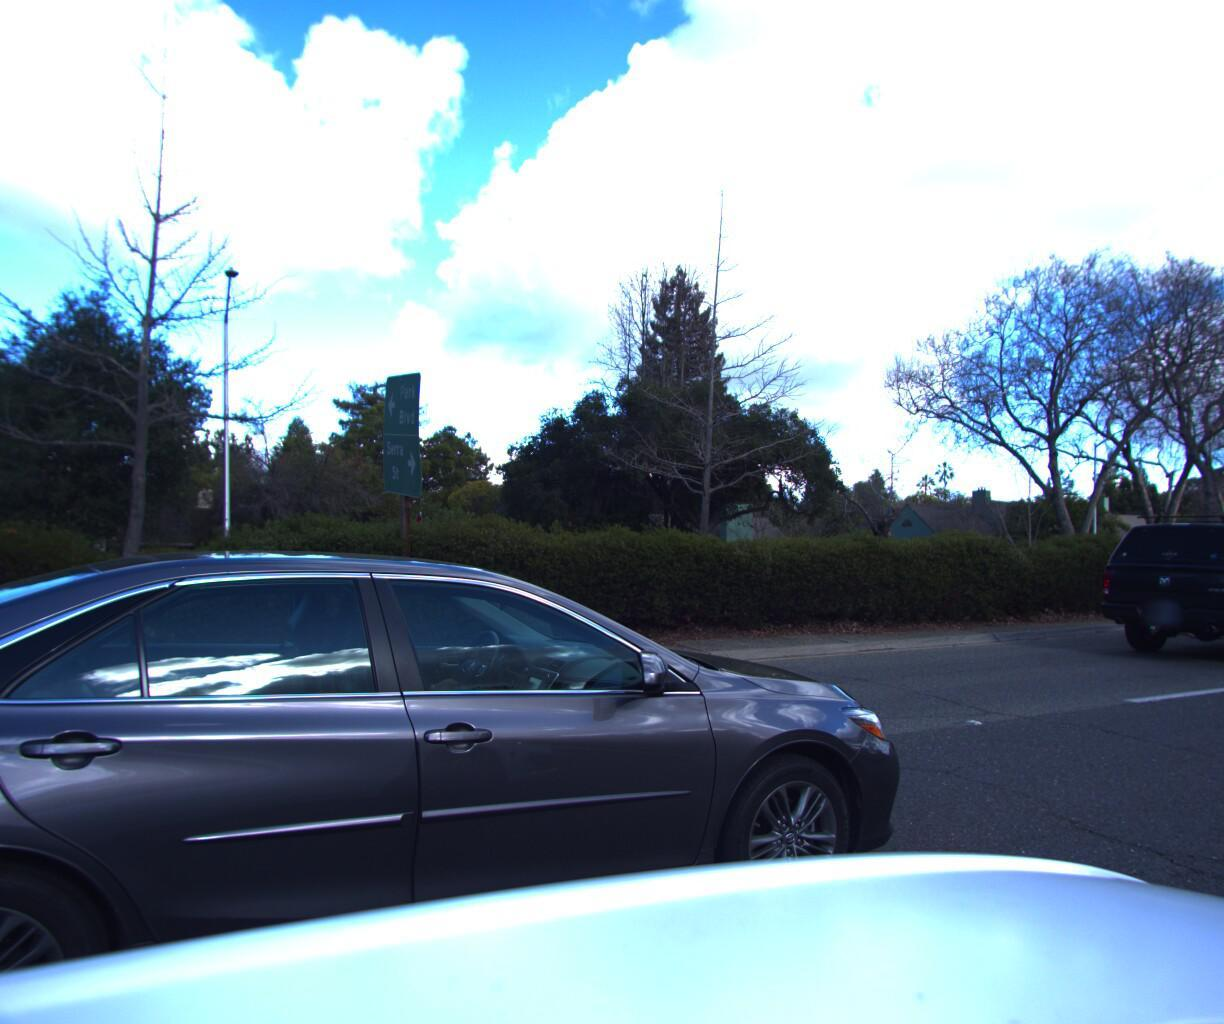car: (0, 496, 958, 1024), (1090, 507, 1224, 669)
